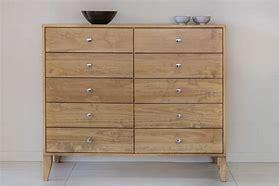cabinet_door: (45, 127, 132, 153), (135, 128, 223, 153), (44, 78, 132, 102), (135, 78, 222, 102), (135, 55, 222, 79), (47, 53, 132, 77), (44, 104, 132, 127), (136, 105, 223, 128), (135, 30, 222, 53), (46, 29, 133, 52)
handle: (86, 87, 95, 96), (174, 137, 183, 145), (174, 87, 183, 95), (86, 136, 94, 145), (176, 112, 184, 120), (85, 37, 94, 44), (174, 62, 183, 69), (85, 62, 94, 69), (174, 37, 183, 44), (86, 112, 94, 119)
